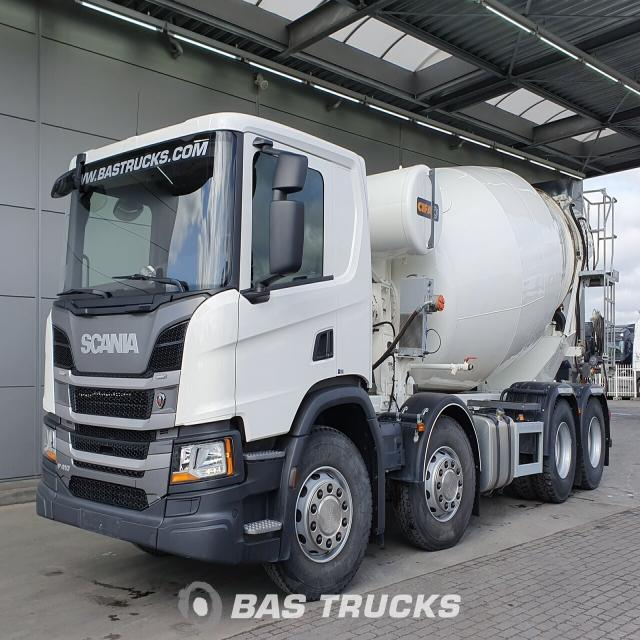Mixer Truck: (36, 111, 618, 600)
